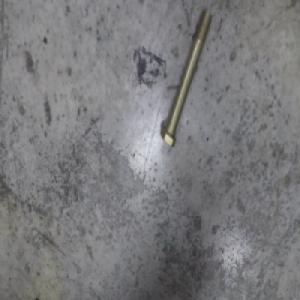Bolt: (161, 15, 210, 146)
